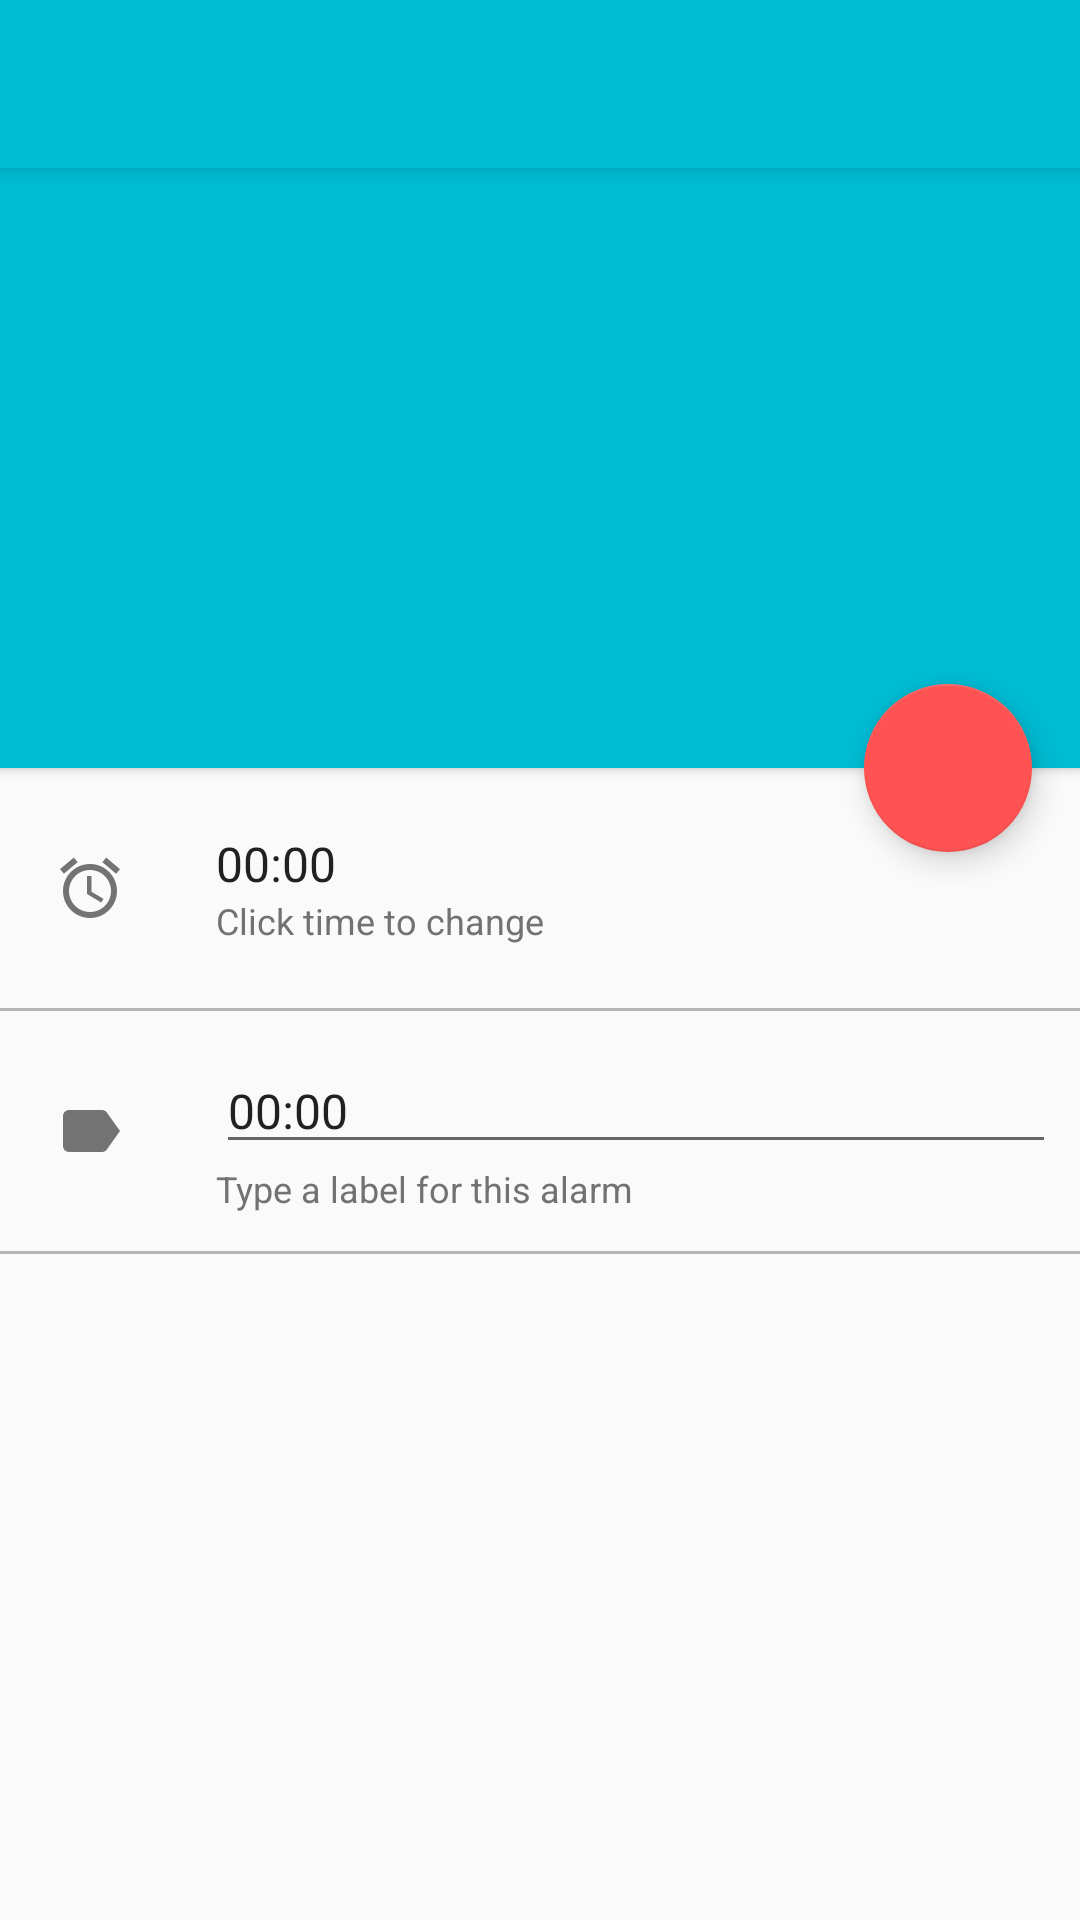

Point at icon controls on the screen. Image size 1080×1920, points as (x=x, y=y).
Choose a time for this alarm: (x=90, y=888)
